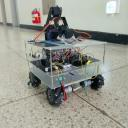cart: (24, 40, 107, 106)
